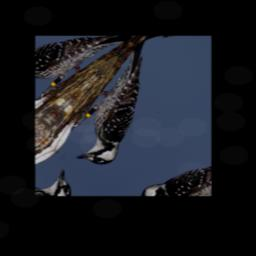Woodpecker: (44, 39, 196, 177)
